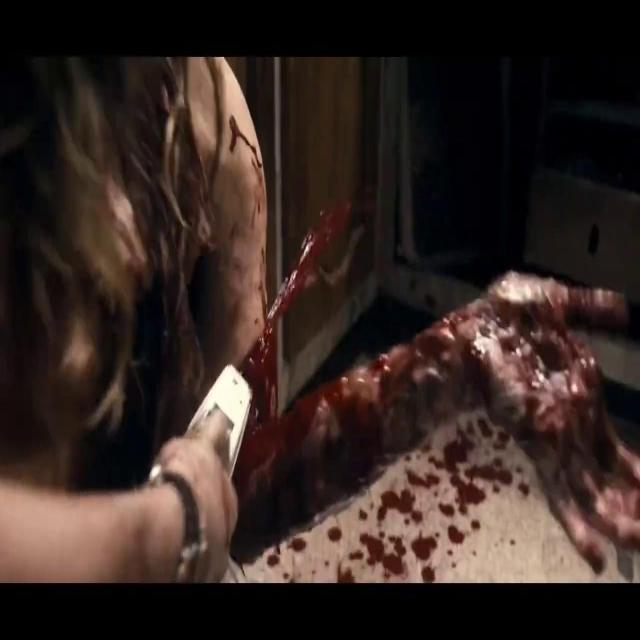flood: (282, 289, 640, 585)
